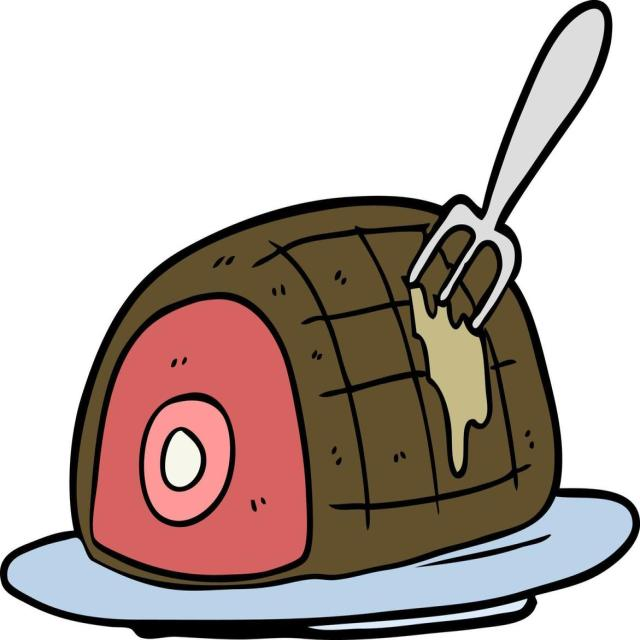carne de res: (60, 181, 601, 605)
